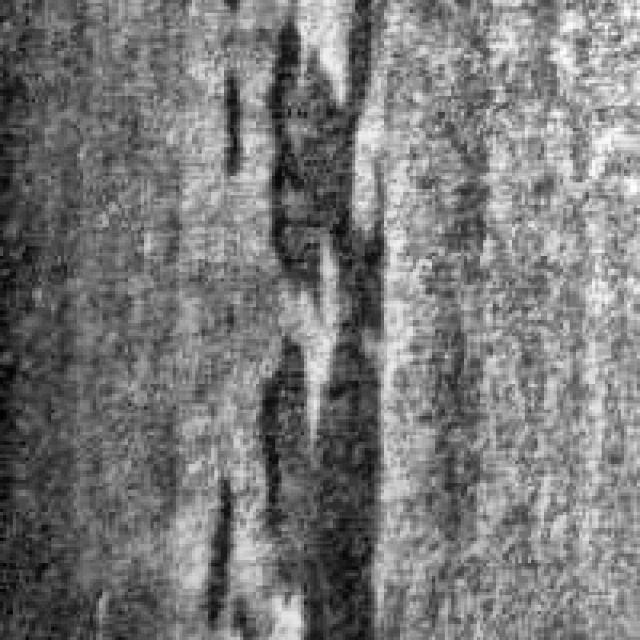Patches: (243, 0, 400, 634), (185, 432, 262, 634), (192, 38, 259, 198)
